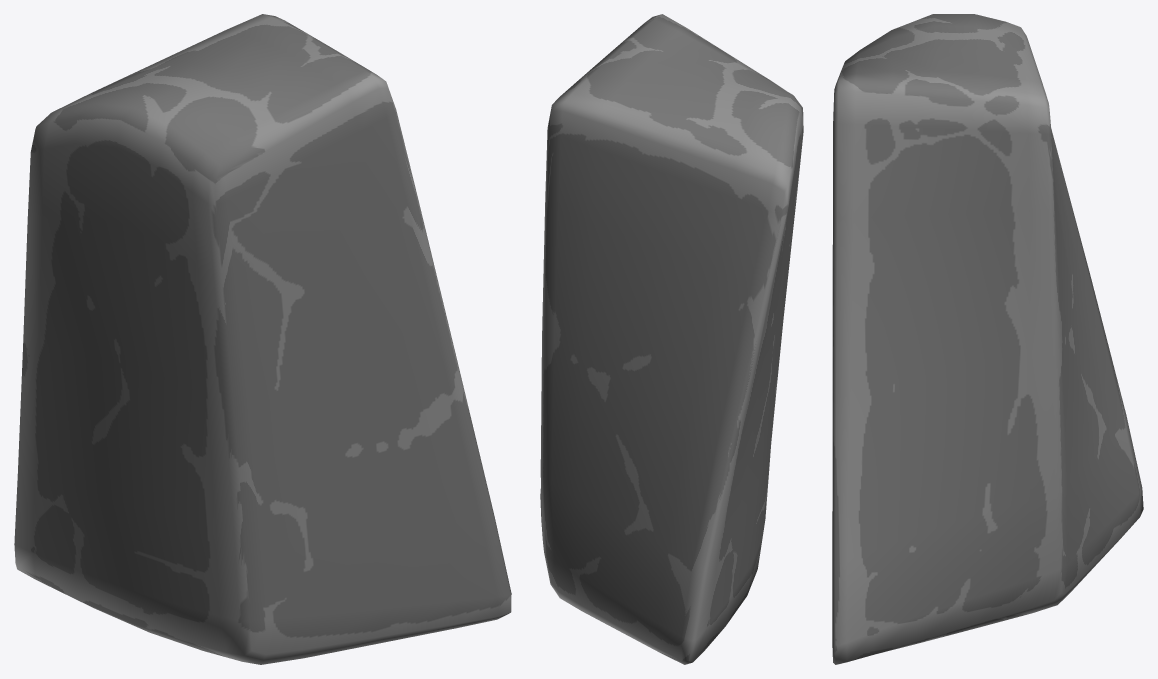
The model's file is CTS_E_PalmRockA.fbx.
3 renders of one model, left to right at view 1: azimuth 30°, elevation 25°; view 2: azimuth 150°, elevation 25°; view 3: azimuth 270°, elevation 25°, orthographic. The views are drawn at different scales.
Visible parts, largest first — view 1: CTS_E_PalmRockA; view 2: CTS_E_PalmRockA; view 3: CTS_E_PalmRockA.
Part boxes in pixels (x1,y1,x2,y2): CTS_E_PalmRockA: (14,14,511,664); CTS_E_PalmRockA: (540,14,803,664); CTS_E_PalmRockA: (832,14,1143,664).
Size of the model in its own units: 610 by 886 by 473.
